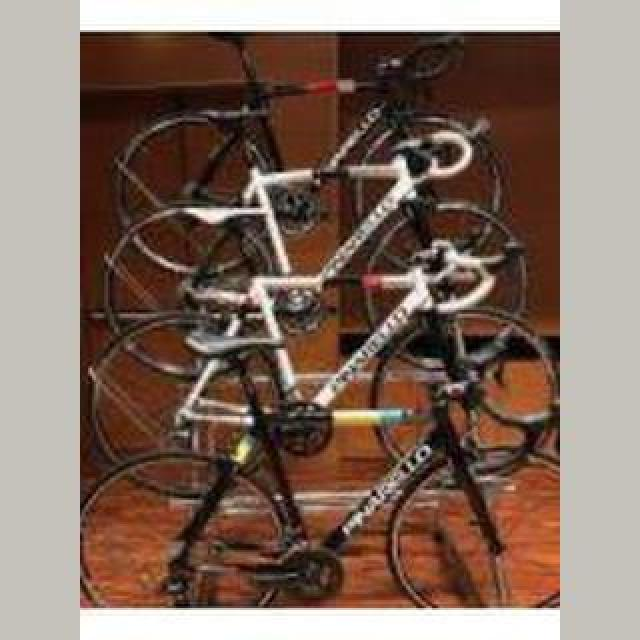Person: (90, 330, 560, 612), (96, 147, 522, 355), (115, 32, 499, 228)
